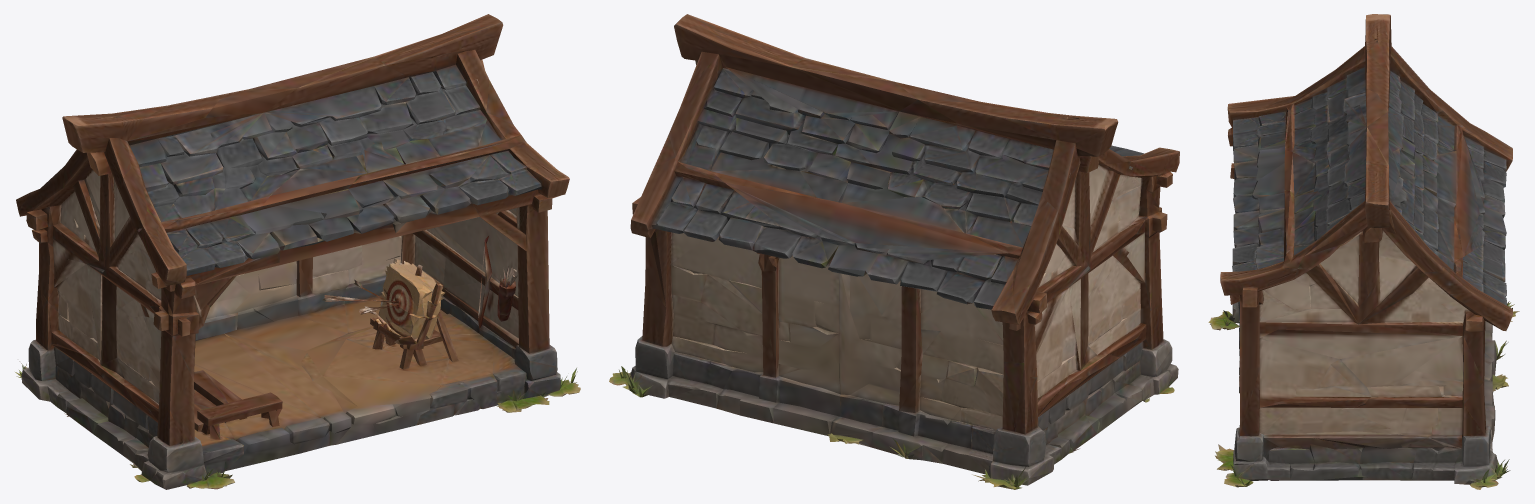
File: archery.glb
The picture shows the model from 3 angles, left to right: view 1: azimuth 30°, elevation 25°; view 2: azimuth 150°, elevation 25°; view 3: azimuth 270°, elevation 25°; orthographic projection. The views are drawn at different scales.
Size of the model in its own units: 1.88 by 1.29 by 1.28.
Materials: 1 (1 with a texture image).
